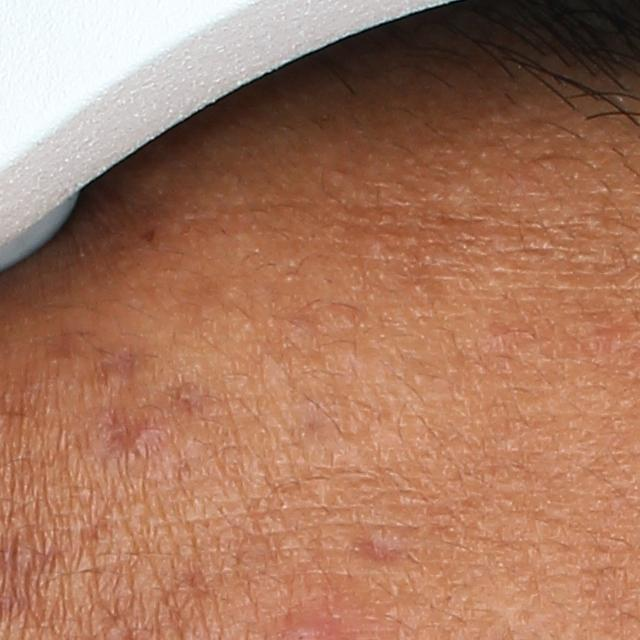atrophic_scar: (349, 528, 417, 569)
